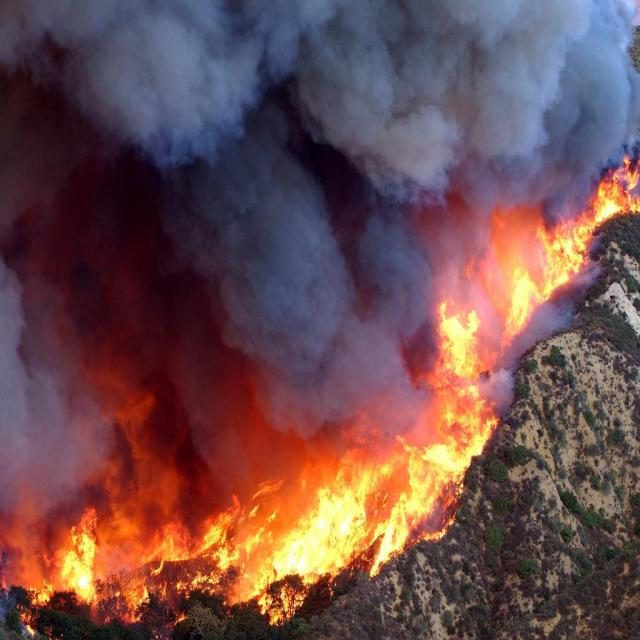Fire: (0, 179, 639, 622)
Smoke: (0, 0, 634, 444)
